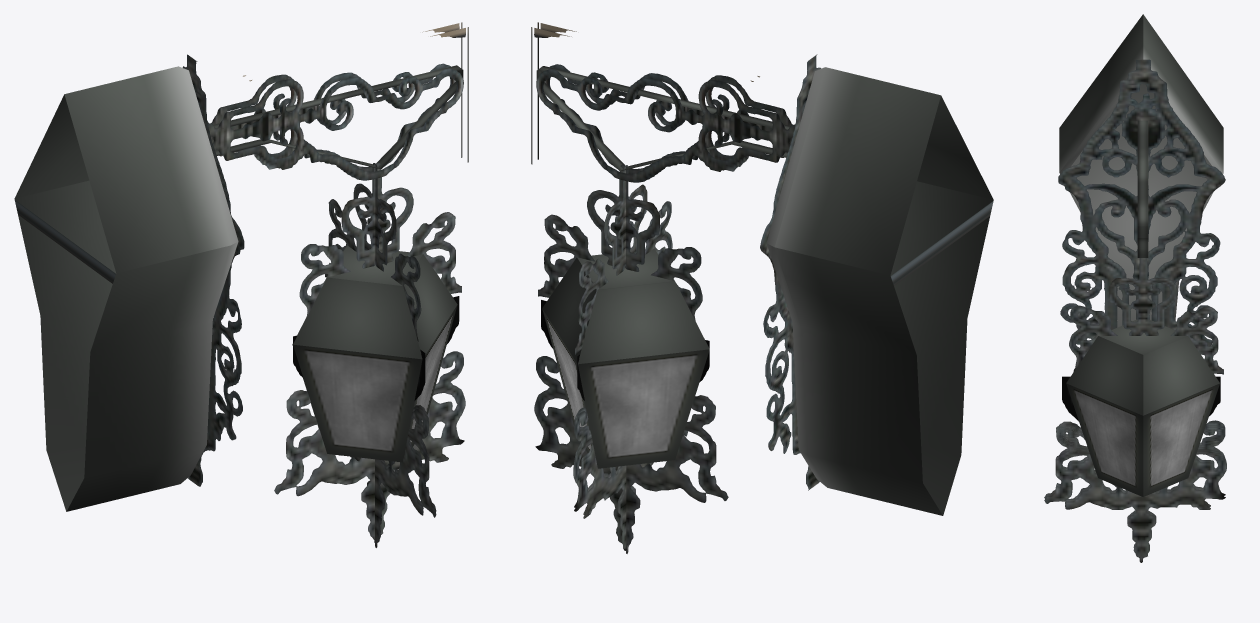
File: lantaarn 1.fbx
3 views of the same model, side by side, from view 1: azimuth 30°, elevation 25°; view 2: azimuth 150°, elevation 25°; view 3: azimuth 270°, elevation 25° (orthographic). The views are drawn at different scales.
Visible parts, largest first — view 1: Mesh Object; view 2: Mesh Object; view 3: Mesh Object.
Boxes of the visible parts, x1,y1,x2,y2 form: Mesh Object: (14,22,468,547); Mesh Object: (531,22,993,553); Mesh Object: (1044,14,1226,562).
Size of the model in its own units: 1.22 by 1.5 by 0.6946.
